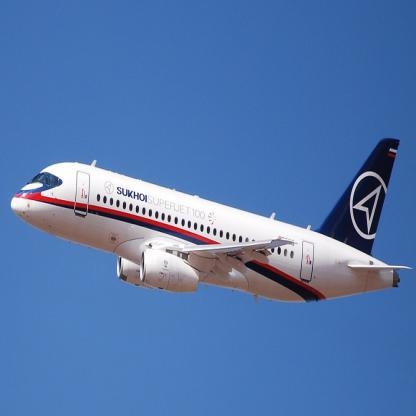CIV_Plane: (10, 134, 414, 312)
